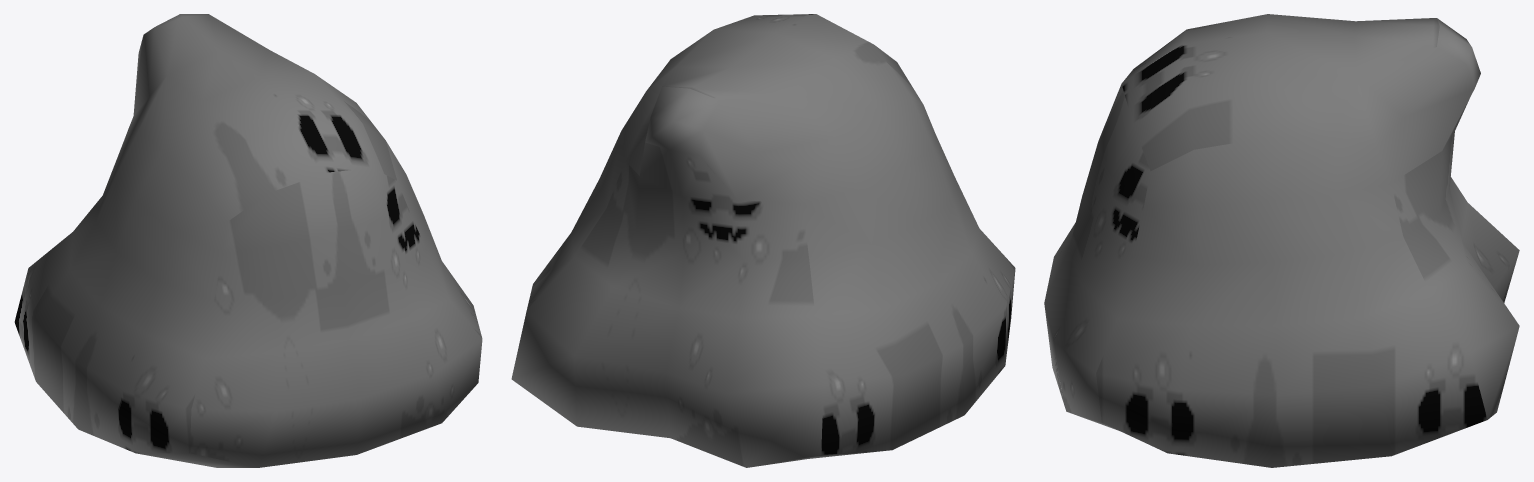
The model's file is Slime.fbx.
3 renders of one model, left to right at view 1: azimuth 30°, elevation 25°; view 2: azimuth 150°, elevation 25°; view 3: azimuth 270°, elevation 25°, orthographic. The views are drawn at different scales.
Visible parts, largest first — view 1: Slime; view 2: Slime; view 3: Slime.
Part boxes in pixels (<box>): Slime: <box>14,14,482,467</box>; Slime: <box>511,14,1015,467</box>; Slime: <box>1044,14,1519,467</box>.
Size of the model in its own units: 13.44 by 12.67 by 14.07.
